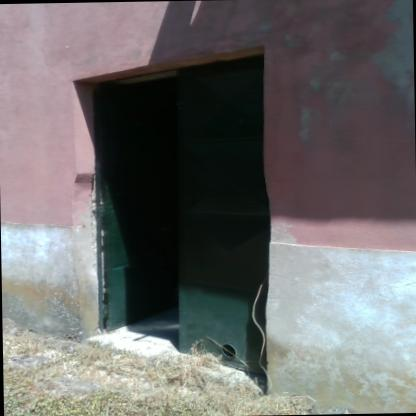open: (58, 13, 306, 368)
